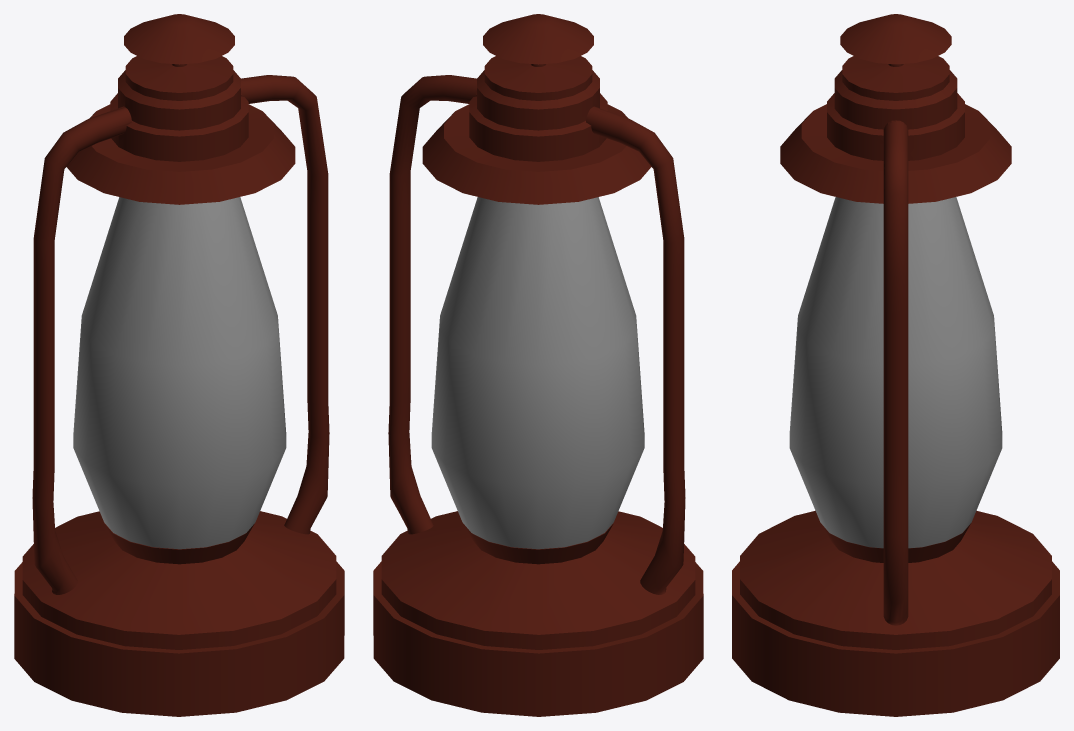
Rendered from OilLamp.FBX.
3 views of the same model, side by side, from view 1: azimuth 30°, elevation 25°; view 2: azimuth 150°, elevation 25°; view 3: azimuth 270°, elevation 25° (orthographic).
Visible parts, largest first — view 1: Cylinder001, Glass; view 2: Cylinder001, Glass; view 3: Cylinder001, Glass.
Part boxes in pixels (left/top/right/bottom): Cylinder001: left=14, top=14, right=344, bottom=716; Glass: left=73, top=197, right=286, bottom=549; Cylinder001: left=373, top=14, right=703, bottom=716; Glass: left=431, top=197, right=644, bottom=549; Cylinder001: left=732, top=14, right=1059, bottom=716; Glass: left=789, top=197, right=1002, bottom=548.
Size of the model in its own units: 0.4411 by 0.9005 by 0.4273.
